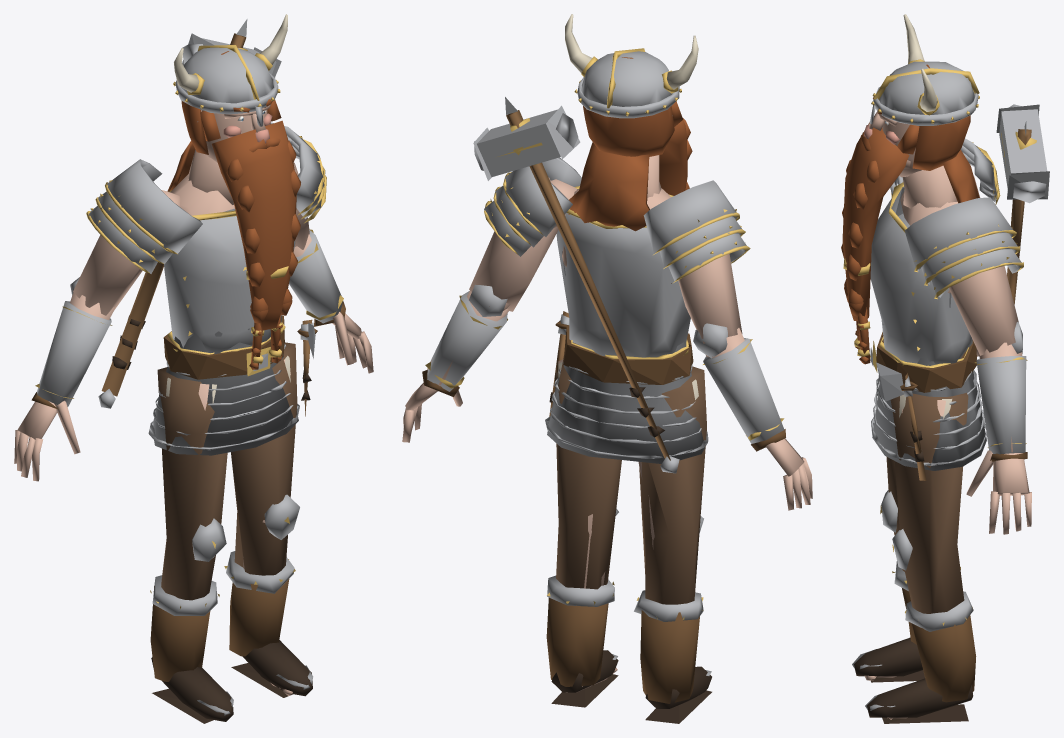
File: hero_2.glb
3 views of the same model, side by side, from view 1: azimuth 30°, elevation 25°; view 2: azimuth 150°, elevation 25°; view 3: azimuth 270°, elevation 25° (orthographic). The views are drawn at different scales.
Parts seen in each view (by area): view 1: hero_2__OW_Armor_DwarvenForge_01_Chest_d, hero_2__OW_Armor_DwarvenForge_01_Legs_d, hero_2__OW_Char_Dwarf_01_Body_Head_d, hero_2__OW_Armor_DwarvenForge_01_Feet_d, hero_2__OW_Armor_DwarvenForge_01_Shoulders_d, hero_2__OW_Armor_DwarvenForge_01_Arms_d, hero_2__OW_Armor_DwarvenForge_01_Head_d, hero_2__OW_Char_Dwarf_01_Body_Arms_d, hero_2__OW_Char_Dwarf_01_Body_Hands_d, hero_2__OW_Armor_DwarvenForge_01_Back_d, hero_2__OW_Char_Dwarf_01_Body_Torso_d, hero_2__OW_Armor_DwarvenForge_01_Weapon_Hip_d; view 2: hero_2__OW_Armor_DwarvenForge_01_Chest_d, hero_2__OW_Armor_DwarvenForge_01_Legs_d, hero_2__OW_Armor_DwarvenForge_01_Feet_d, hero_2__OW_Armor_DwarvenForge_01_Shoulders_d, hero_2__OW_Char_Dwarf_01_Body_Head_d, hero_2__OW_Armor_DwarvenForge_01_Arms_d, hero_2__OW_Armor_DwarvenForge_01_Back_d, hero_2__OW_Char_Dwarf_01_Body_Arms_d, hero_2__OW_Armor_DwarvenForge_01_Head_d, hero_2__OW_Char_Dwarf_01_Body_Hands_d; view 3: hero_2__OW_Armor_DwarvenForge_01_Chest_d, hero_2__OW_Char_Dwarf_01_Body_Head_d, hero_2__OW_Armor_DwarvenForge_01_Legs_d, hero_2__OW_Armor_DwarvenForge_01_Feet_d, hero_2__OW_Armor_DwarvenForge_01_Shoulders_d, hero_2__OW_Armor_DwarvenForge_01_Head_d, hero_2__OW_Armor_DwarvenForge_01_Back_d, hero_2__OW_Armor_DwarvenForge_01_Arms_d, hero_2__OW_Char_Dwarf_01_Body_Arms_d, hero_2__OW_Char_Dwarf_01_Body_Hands_d, hero_2__OW_Armor_DwarvenForge_01_Weapon_Hip_d, hero_2__OW_Char_Dwarf_01_Body_Torso_d.
Boxes of the visible parts, x1,y1,x2,y2 form: hero_2__OW_Armor_DwarvenForge_01_Chest_d: [148, 190, 299, 455]; hero_2__OW_Armor_DwarvenForge_01_Legs_d: [157, 342, 299, 600]; hero_2__OW_Char_Dwarf_01_Body_Head_d: [167, 51, 300, 369]; hero_2__OW_Armor_DwarvenForge_01_Feet_d: [150, 551, 313, 723]; hero_2__OW_Armor_DwarvenForge_01_Shoulders_d: [86, 122, 326, 273]; hero_2__OW_Armor_DwarvenForge_01_Arms_d: [31, 229, 345, 409]; hero_2__OW_Armor_DwarvenForge_01_Head_d: [173, 14, 287, 126]; hero_2__OW_Char_Dwarf_01_Body_Arms_d: [70, 162, 311, 319]; hero_2__OW_Char_Dwarf_01_Body_Hands_d: [14, 312, 373, 481]; hero_2__OW_Armor_DwarvenForge_01_Back_d: [98, 19, 281, 408]; hero_2__OW_Char_Dwarf_01_Body_Torso_d: [170, 174, 234, 215]; hero_2__OW_Armor_DwarvenForge_01_Weapon_Hip_d: [297, 319, 317, 416]; hero_2__OW_Armor_DwarvenForge_01_Chest_d: [545, 186, 708, 463]; hero_2__OW_Armor_DwarvenForge_01_Legs_d: [556, 355, 706, 604]; hero_2__OW_Armor_DwarvenForge_01_Feet_d: [546, 575, 711, 723]; hero_2__OW_Armor_DwarvenForge_01_Shoulders_d: [484, 157, 750, 282]; hero_2__OW_Char_Dwarf_01_Body_Head_d: [568, 57, 692, 231]; hero_2__OW_Armor_DwarvenForge_01_Arms_d: [422, 284, 785, 451]; hero_2__OW_Armor_DwarvenForge_01_Back_d: [473, 97, 679, 473]; hero_2__OW_Char_Dwarf_01_Body_Arms_d: [427, 177, 744, 385]; hero_2__OW_Armor_DwarvenForge_01_Head_d: [565, 14, 698, 118]; hero_2__OW_Char_Dwarf_01_Body_Hands_d: [402, 383, 812, 510]; hero_2__OW_Armor_DwarvenForge_01_Chest_d: [869, 182, 986, 470]; hero_2__OW_Char_Dwarf_01_Body_Head_d: [841, 64, 979, 364]; hero_2__OW_Armor_DwarvenForge_01_Legs_d: [880, 392, 968, 613]; hero_2__OW_Armor_DwarvenForge_01_Feet_d: [852, 561, 976, 723]; hero_2__OW_Armor_DwarvenForge_01_Shoulders_d: [890, 138, 1023, 299]; hero_2__OW_Armor_DwarvenForge_01_Head_d: [869, 14, 979, 125]; hero_2__OW_Armor_DwarvenForge_01_Back_d: [996, 104, 1049, 304]; hero_2__OW_Armor_DwarvenForge_01_Arms_d: [974, 322, 1027, 461]; hero_2__OW_Char_Dwarf_01_Body_Arms_d: [949, 176, 1022, 452]; hero_2__OW_Char_Dwarf_01_Body_Hands_d: [966, 348, 1031, 534]; hero_2__OW_Armor_DwarvenForge_01_Weapon_Hip_d: [876, 362, 926, 480]; hero_2__OW_Char_Dwarf_01_Body_Torso_d: [900, 191, 957, 293].
Bounding box in the file's own units: 0.8332 × 1.41 × 0.4092.
